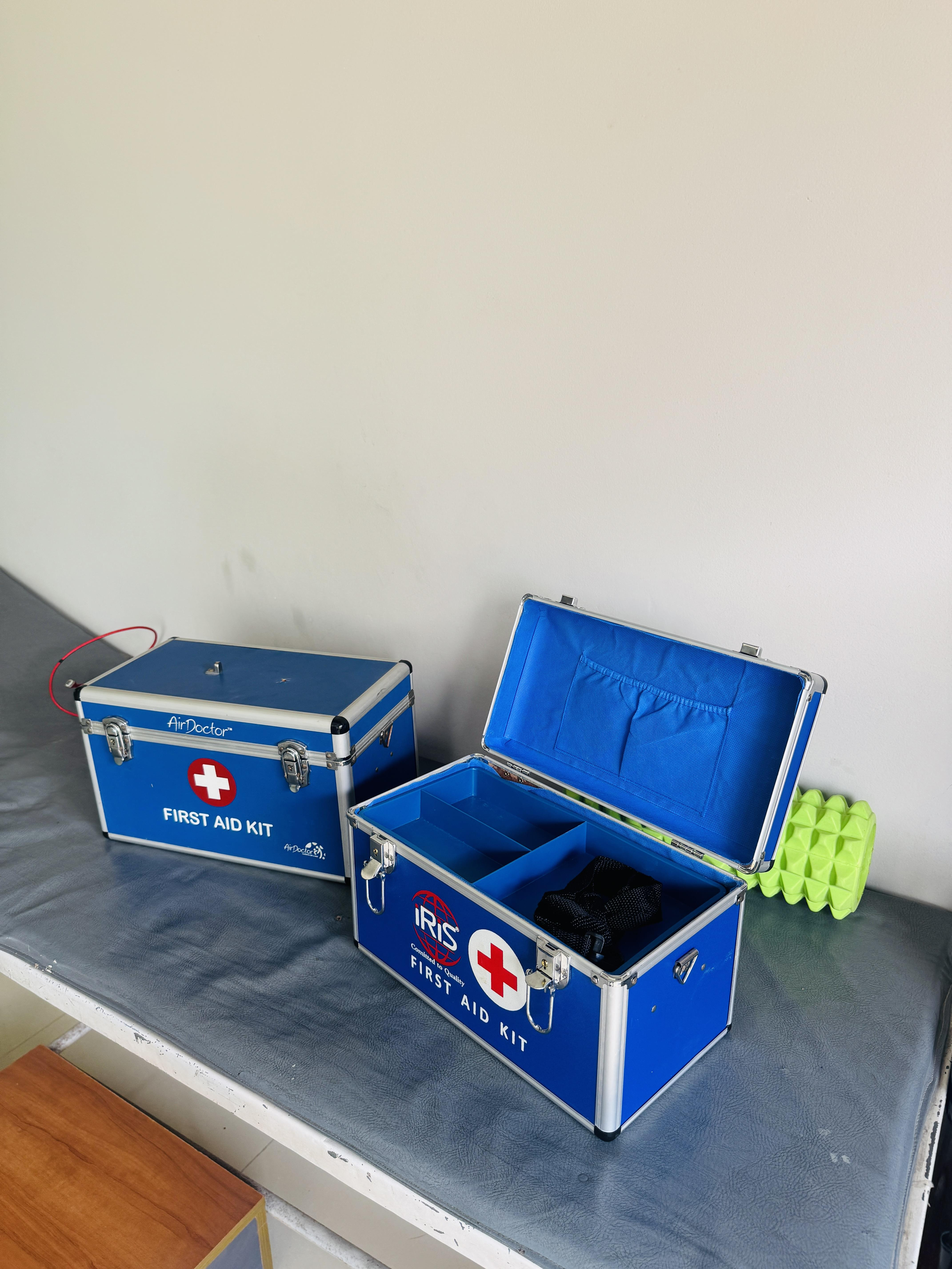FirstAidBox: (60, 593, 826, 1149)
